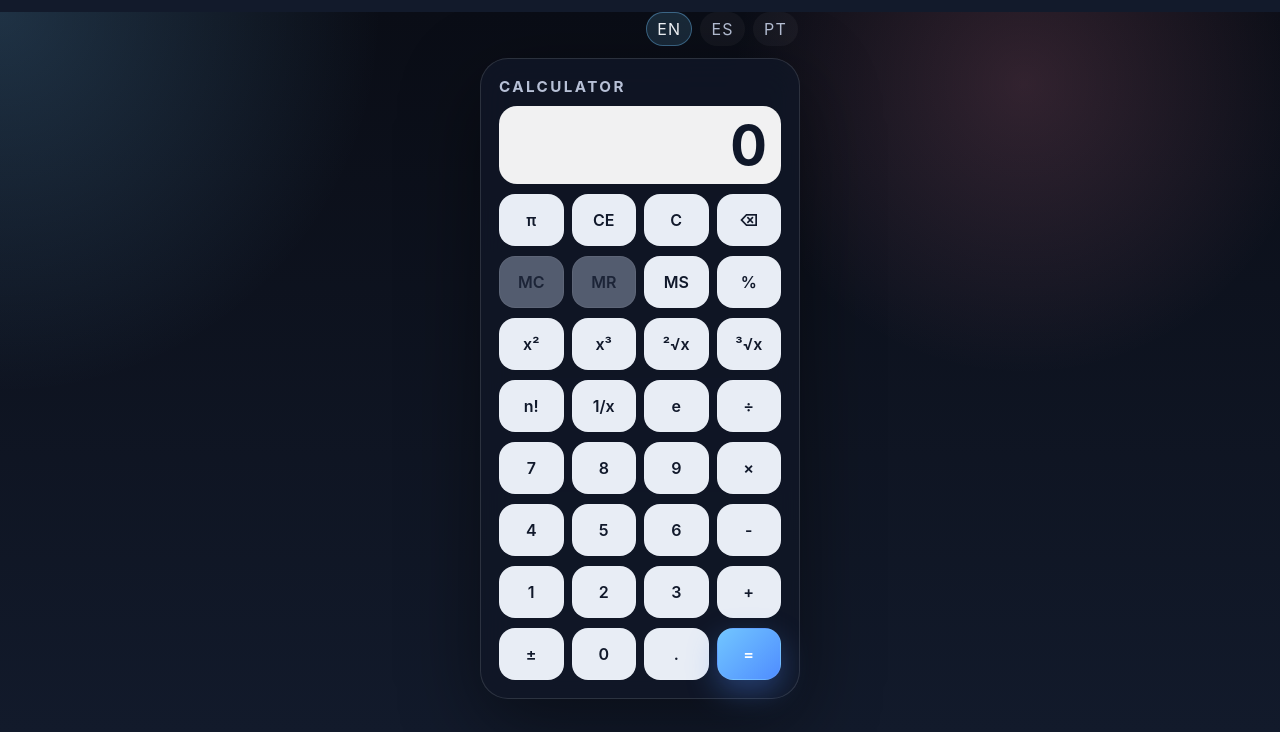
it: Calculator › resets a single positive digit when backspacing
Click the button "5". click: (604,530)
box: [572,504,636,556]
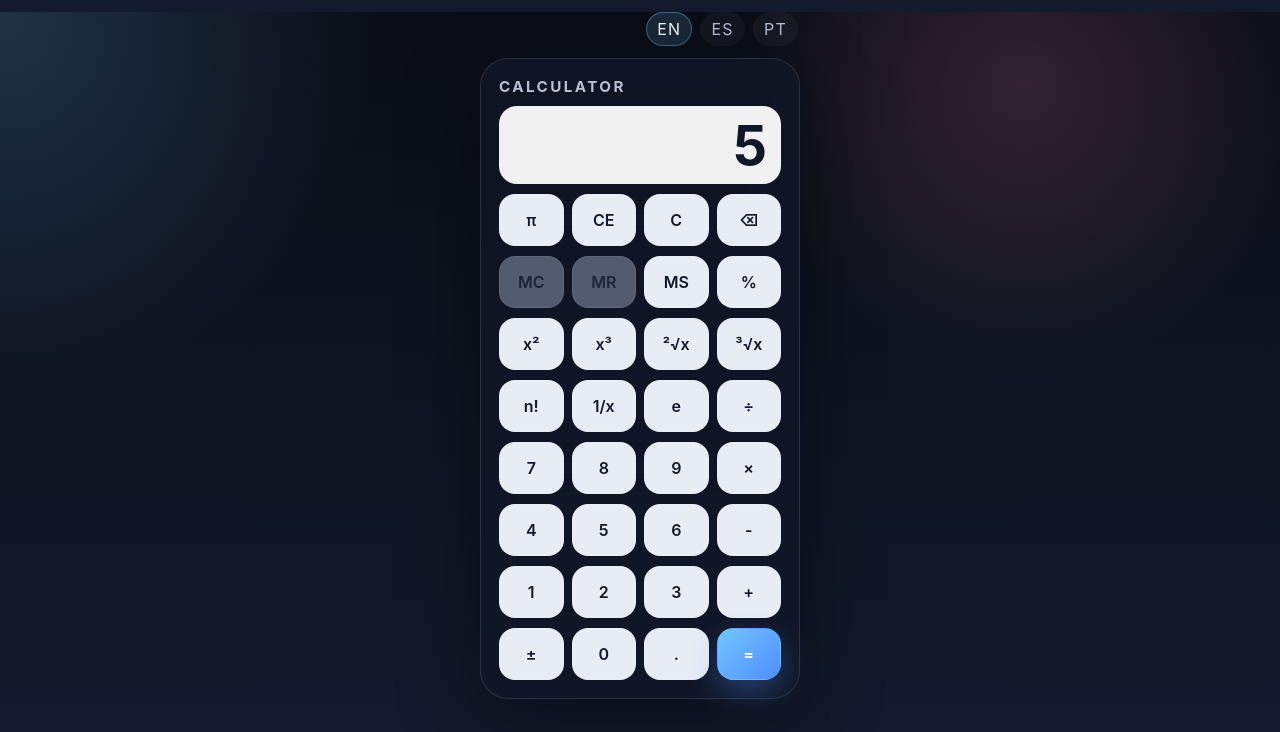
Click the button "⌫". click: (749,220)
box: [716,194,781,246]
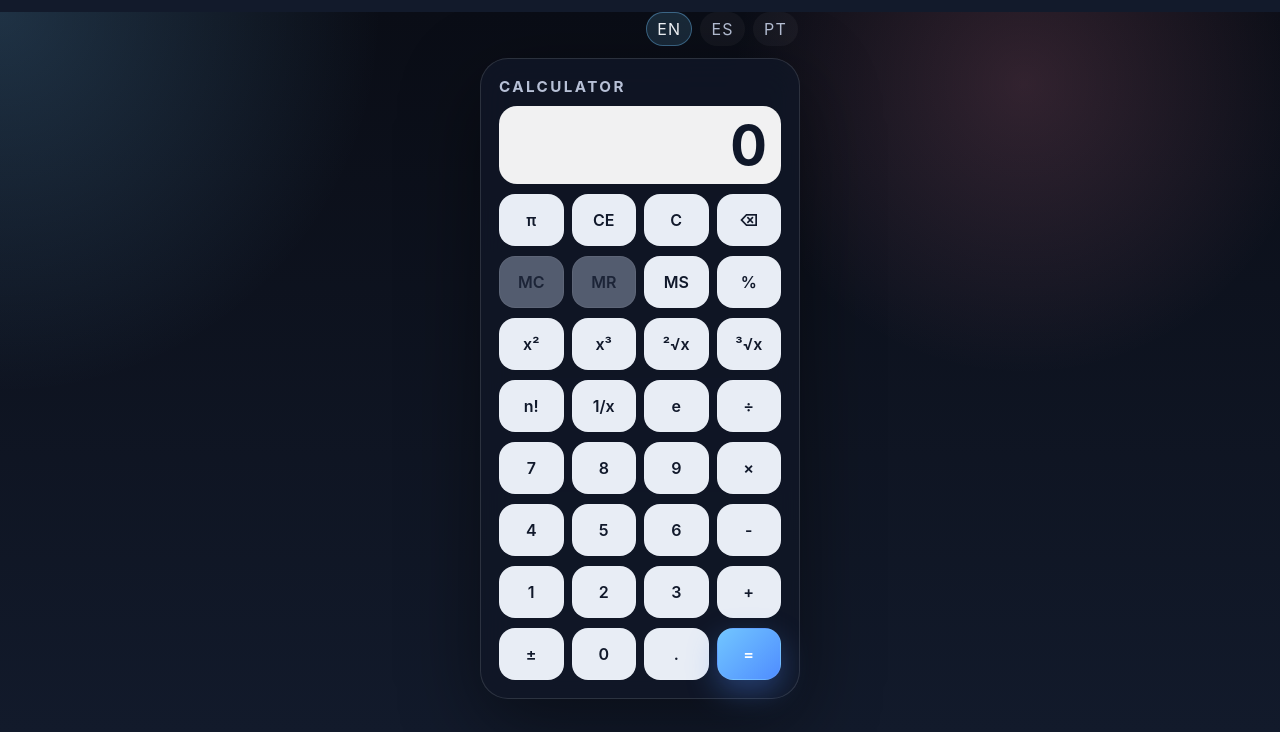
Expected: the message reads "0", [730,112,767,178]
